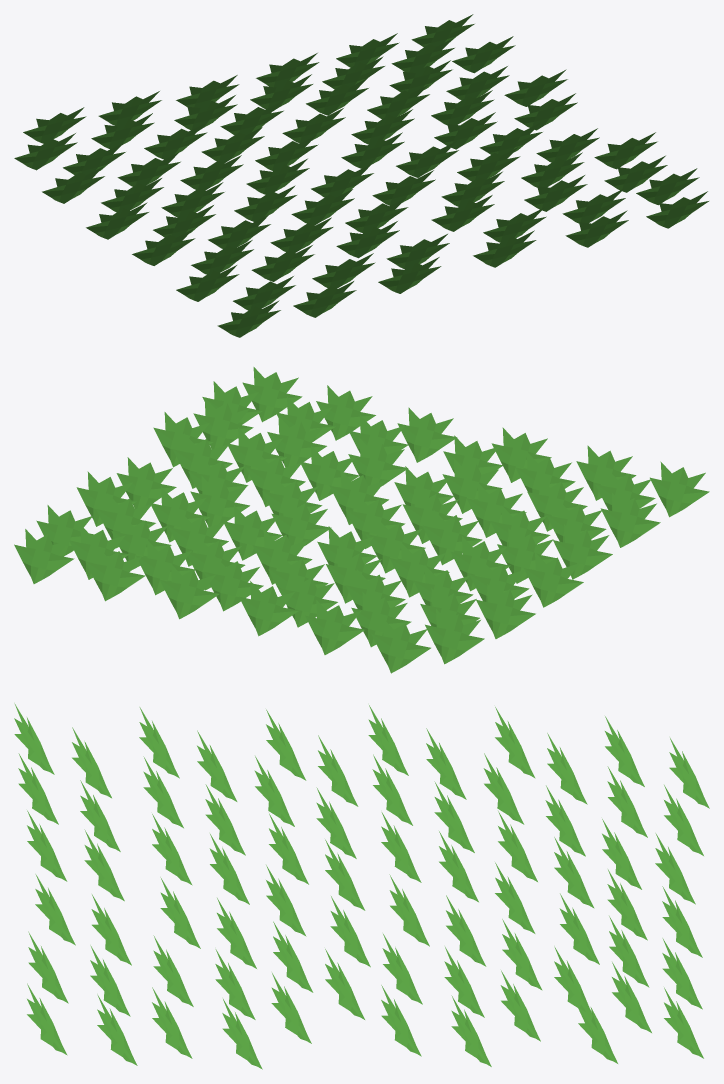
The model's file is Grass.fbx.
The picture shows the model from 3 angles, top to bottom: view 1: azimuth 30°, elevation 25°; view 2: azimuth 150°, elevation 25°; view 3: azimuth 270°, elevation 25°; orthographic projection. The views are drawn at different scales.
Parts seen in each view (by area): view 1: Grass; view 2: Grass; view 3: Grass.
Part boxes in pixels (left/top/right/bottom): Grass: left=14, top=14, right=708, bottom=337; Grass: left=14, top=367, right=709, bottom=673; Grass: left=14, top=703, right=709, bottom=1069.
Bounding box in the file's own units: 248 × 19.6 × 217.
